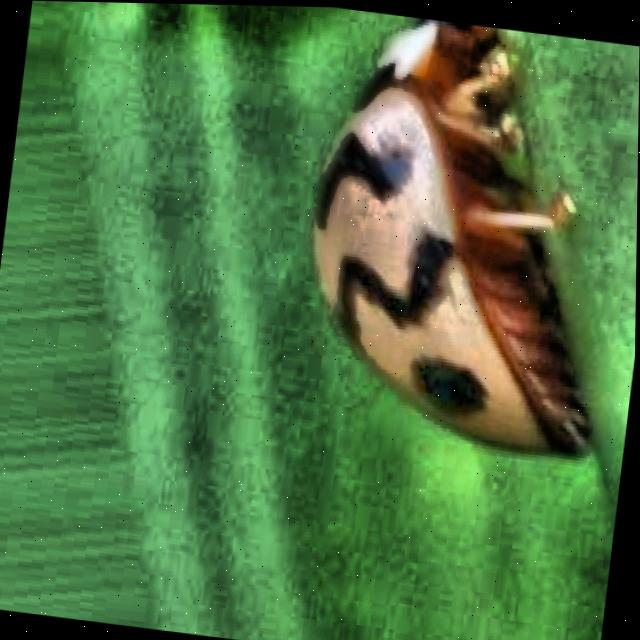Asian-Lady-beetle: (261, 5, 640, 556)
